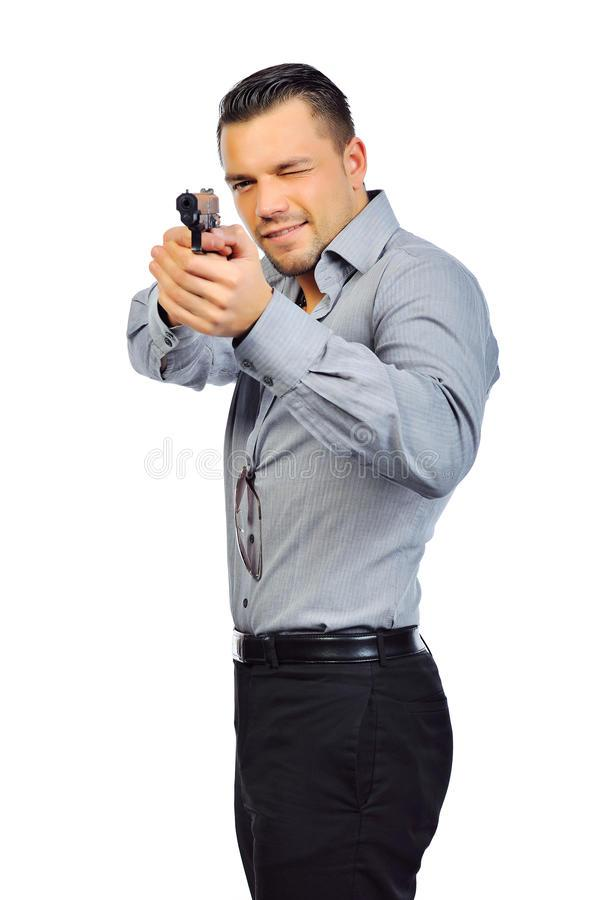criminal: (125, 54, 504, 900)
weapon: (170, 186, 228, 273)
